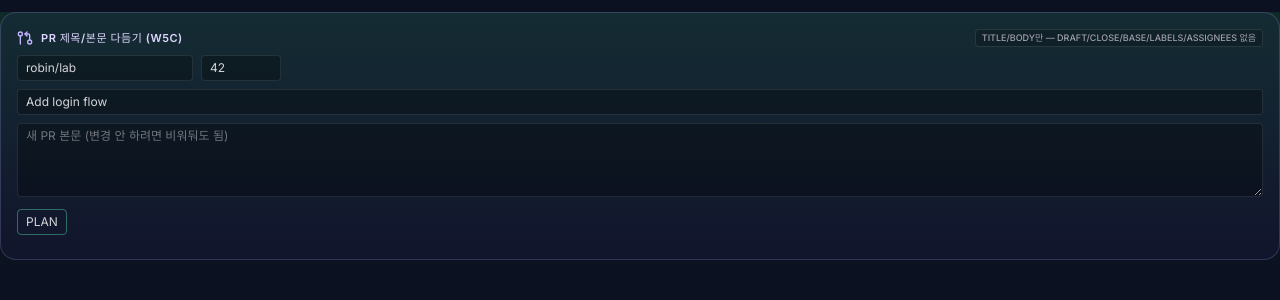
PullRequestUpdateCard — W5c › (#4) blocked(PR closed) → 메시지 표시 + execute 부재
Replace the text in the field named "pr-update new title" with "Add login flow (cleaned up)" at (640, 102), box [17,89,1263,115]
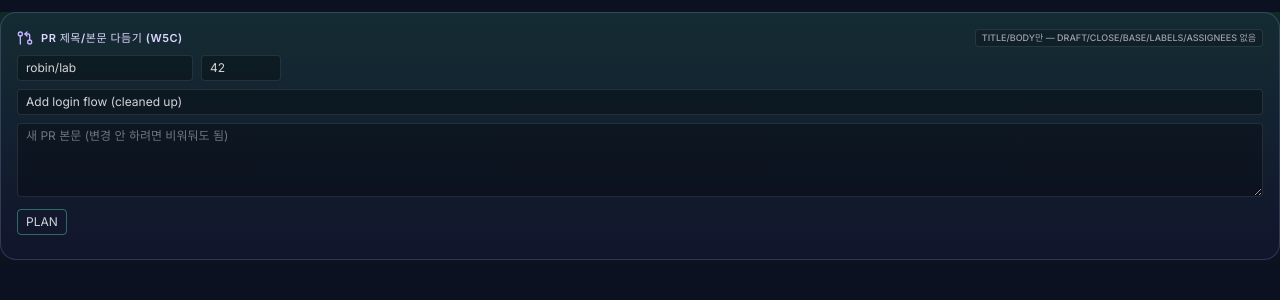
Click the button with test id "publish-pr-update-plan".
click(42, 222)  # box [17,209,67,235]
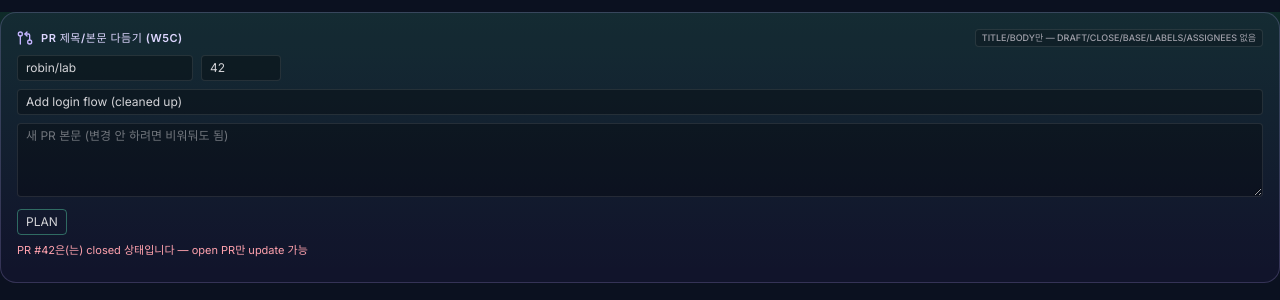
expect the text with test id "publish-pr-update-plan-message" shows "closed": met, box [17,243,308,257]
